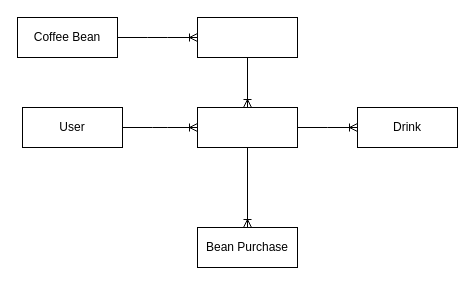
This 475x285 diagram has some shape labels left out. Here are the shapes that lost their labels. From the top down, the box of each, then its label:
(196, 16, 298, 58): Roasted Bean
(196, 106, 298, 148): User Roasted Bean
